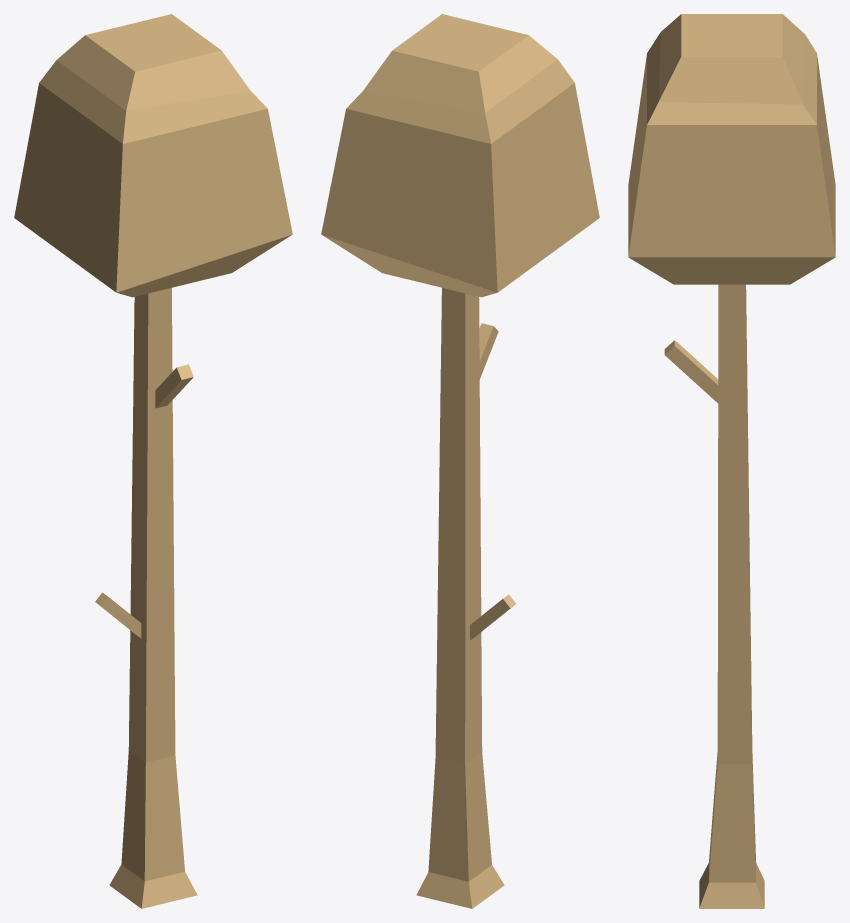
File: Mega_Asset_s_Pack_Cube_116.FBX
The picture shows the model from 3 angles, left to right: view 1: azimuth 30°, elevation 25°; view 2: azimuth 150°, elevation 25°; view 3: azimuth 270°, elevation 25°; orthographic projection.
Parts seen in each view (by area): view 1: Mega_Asset_s_Pack_Cube_116; view 2: Mega_Asset_s_Pack_Cube_116; view 3: Mega_Asset_s_Pack_Cube_116.
Part boxes in pixels (left/top/right/bottom): Mega_Asset_s_Pack_Cube_116: left=14, top=14, right=292, bottom=908; Mega_Asset_s_Pack_Cube_116: left=321, top=14, right=599, bottom=908; Mega_Asset_s_Pack_Cube_116: left=628, top=14, right=835, bottom=908.
Size of what is drawn, in the model's own units: 408 by 409 by 1871.
